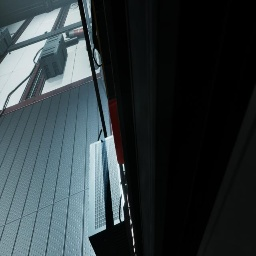EmergencyPhone ,: (91, 0, 116, 100)
FireAlarm ,: (106, 94, 124, 164)
NitrogenTank ,: (69, 28, 85, 39)
